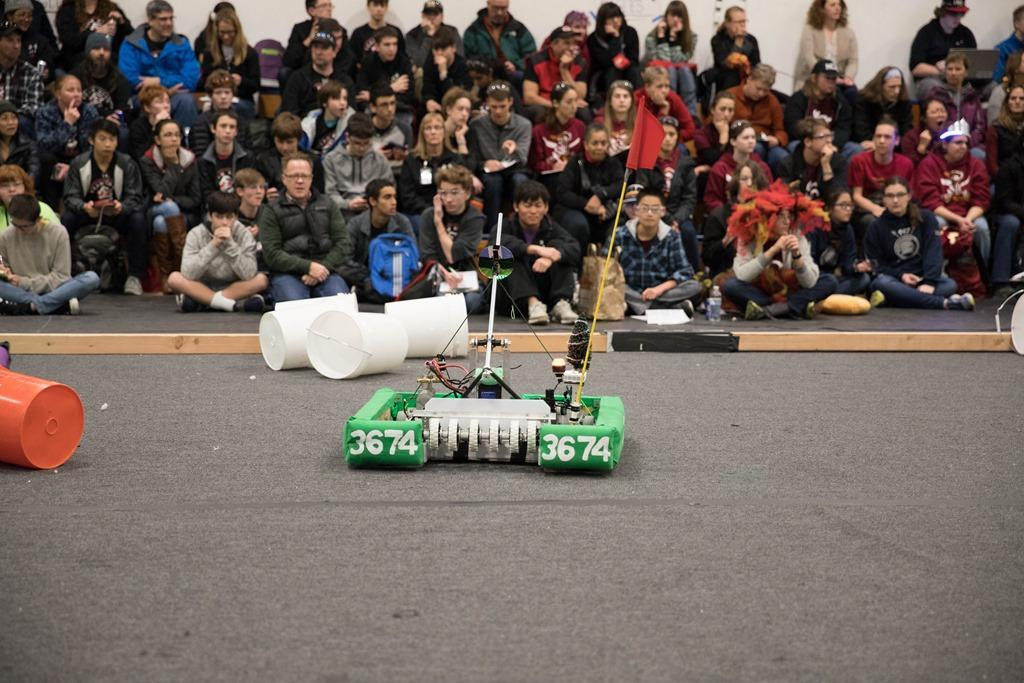robot: (346, 87, 668, 478)
